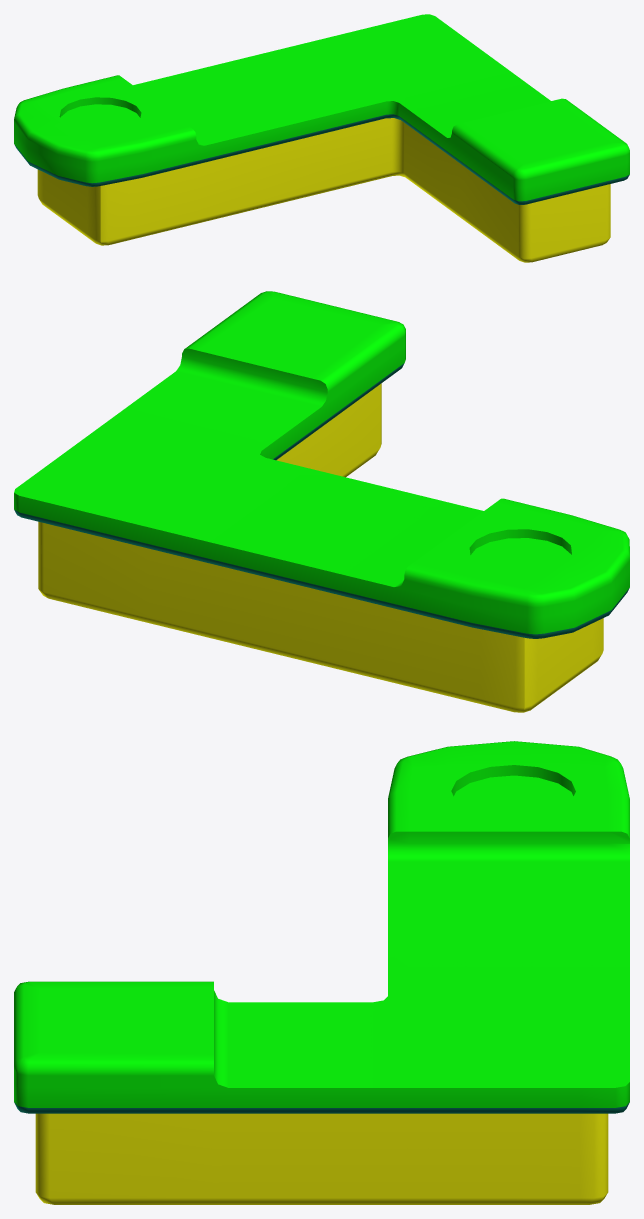
File: SM_Banc_01.fbx
3 views of the same model, one above another, from view 1: azimuth 30°, elevation 25°; view 2: azimuth 150°, elevation 25°; view 3: azimuth 270°, elevation 25° (orthographic). The views are drawn at different scales.
Parts seen in each view (by area): view 1: SM_Banc_01; view 2: SM_Banc_01; view 3: SM_Banc_01.
Boxes of the visible parts, box(x1,y1,x2,y2) form: SM_Banc_01: box(14, 14, 629, 262); SM_Banc_01: box(14, 291, 629, 712); SM_Banc_01: box(14, 741, 629, 1204).
Bounding box in the file's own units: 1.69 × 0.3759 × 1.35.
